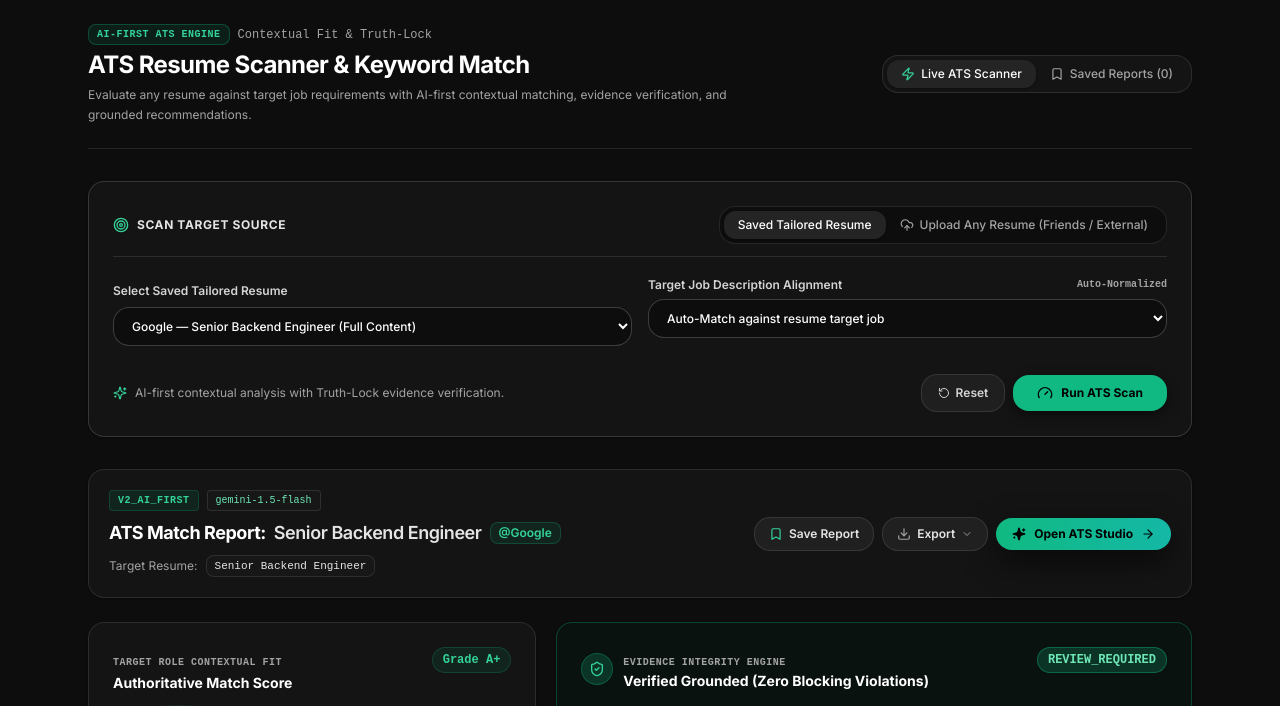
Test case: ScannerPage Phase 6 AI-First Integration Suite › renders Job Match Explorer in ATS Studio with AI-first requirements and evidence quotations
This screenshot has width=1280, height=706.
Note: Open ATS Studio
Click the button with test id "open-ats-studio-btn" at coordinates (1084, 534), box [996, 518, 1171, 550]
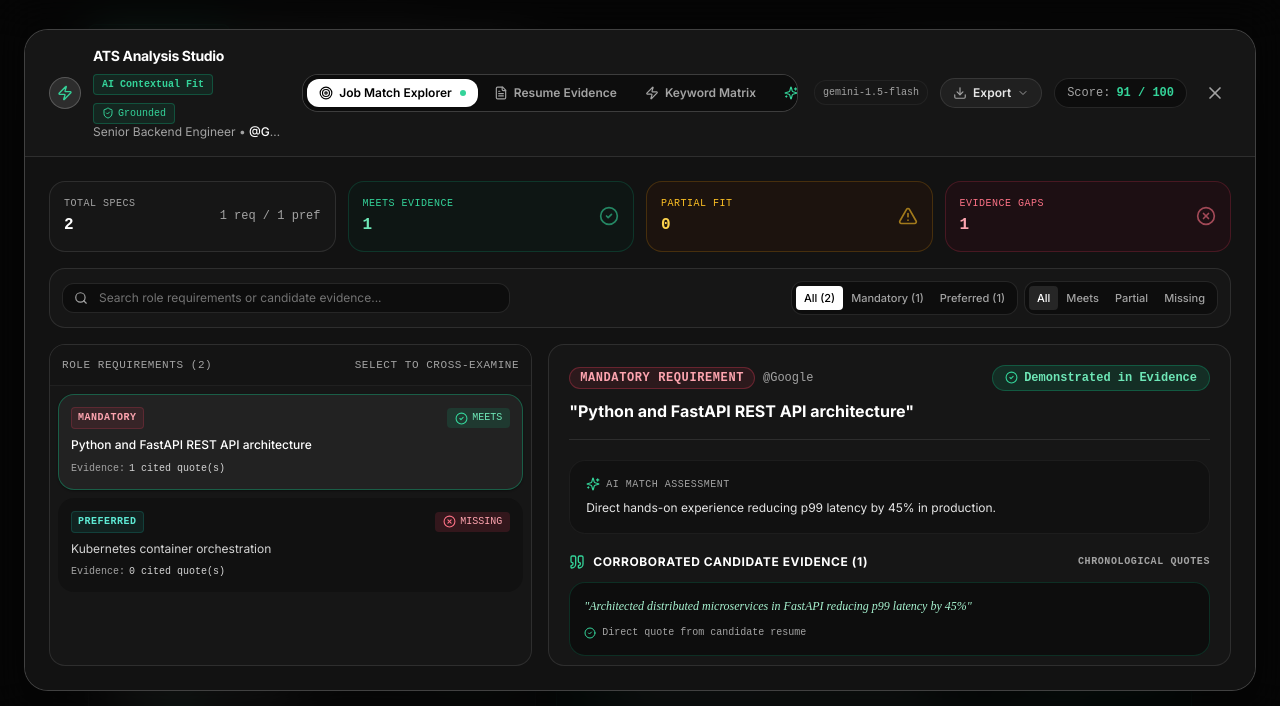
expect the dialog with test id "ats-studio-modal" is shown: met
expect the element with test id "job-match-explorer-view" is shown: met
expect the text "Python and FastAPI REST API architecture" is shown: met, box [71, 437, 312, 452]
